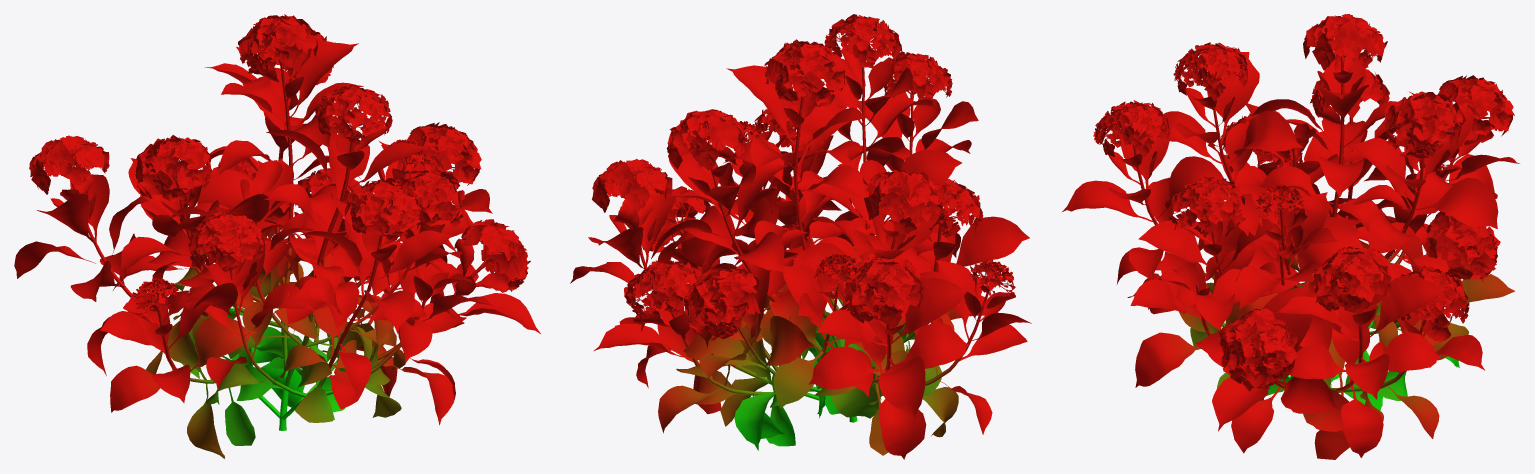
The model's file is Bigleaf Hydrangea_LOD0_Var2_vgztealha.fbx.
The picture shows the model from 3 angles, left to right: view 1: azimuth 30°, elevation 25°; view 2: azimuth 150°, elevation 25°; view 3: azimuth 270°, elevation 25°; orthographic projection.
Visible parts, largest first — view 1: _ute8_Var2_LOD0; view 2: _ute8_Var2_LOD0; view 3: _ute8_Var2_LOD0.
Part boxes in pixels (x1=…): _ute8_Var2_LOD0: x1=14, y1=14, x2=540, y2=458; _ute8_Var2_LOD0: x1=570, y1=14, x2=1031, y2=459; _ute8_Var2_LOD0: x1=1062, y1=14, x2=1519, y2=459.
Bounding box in the file's own units: 153 × 138 × 146.
